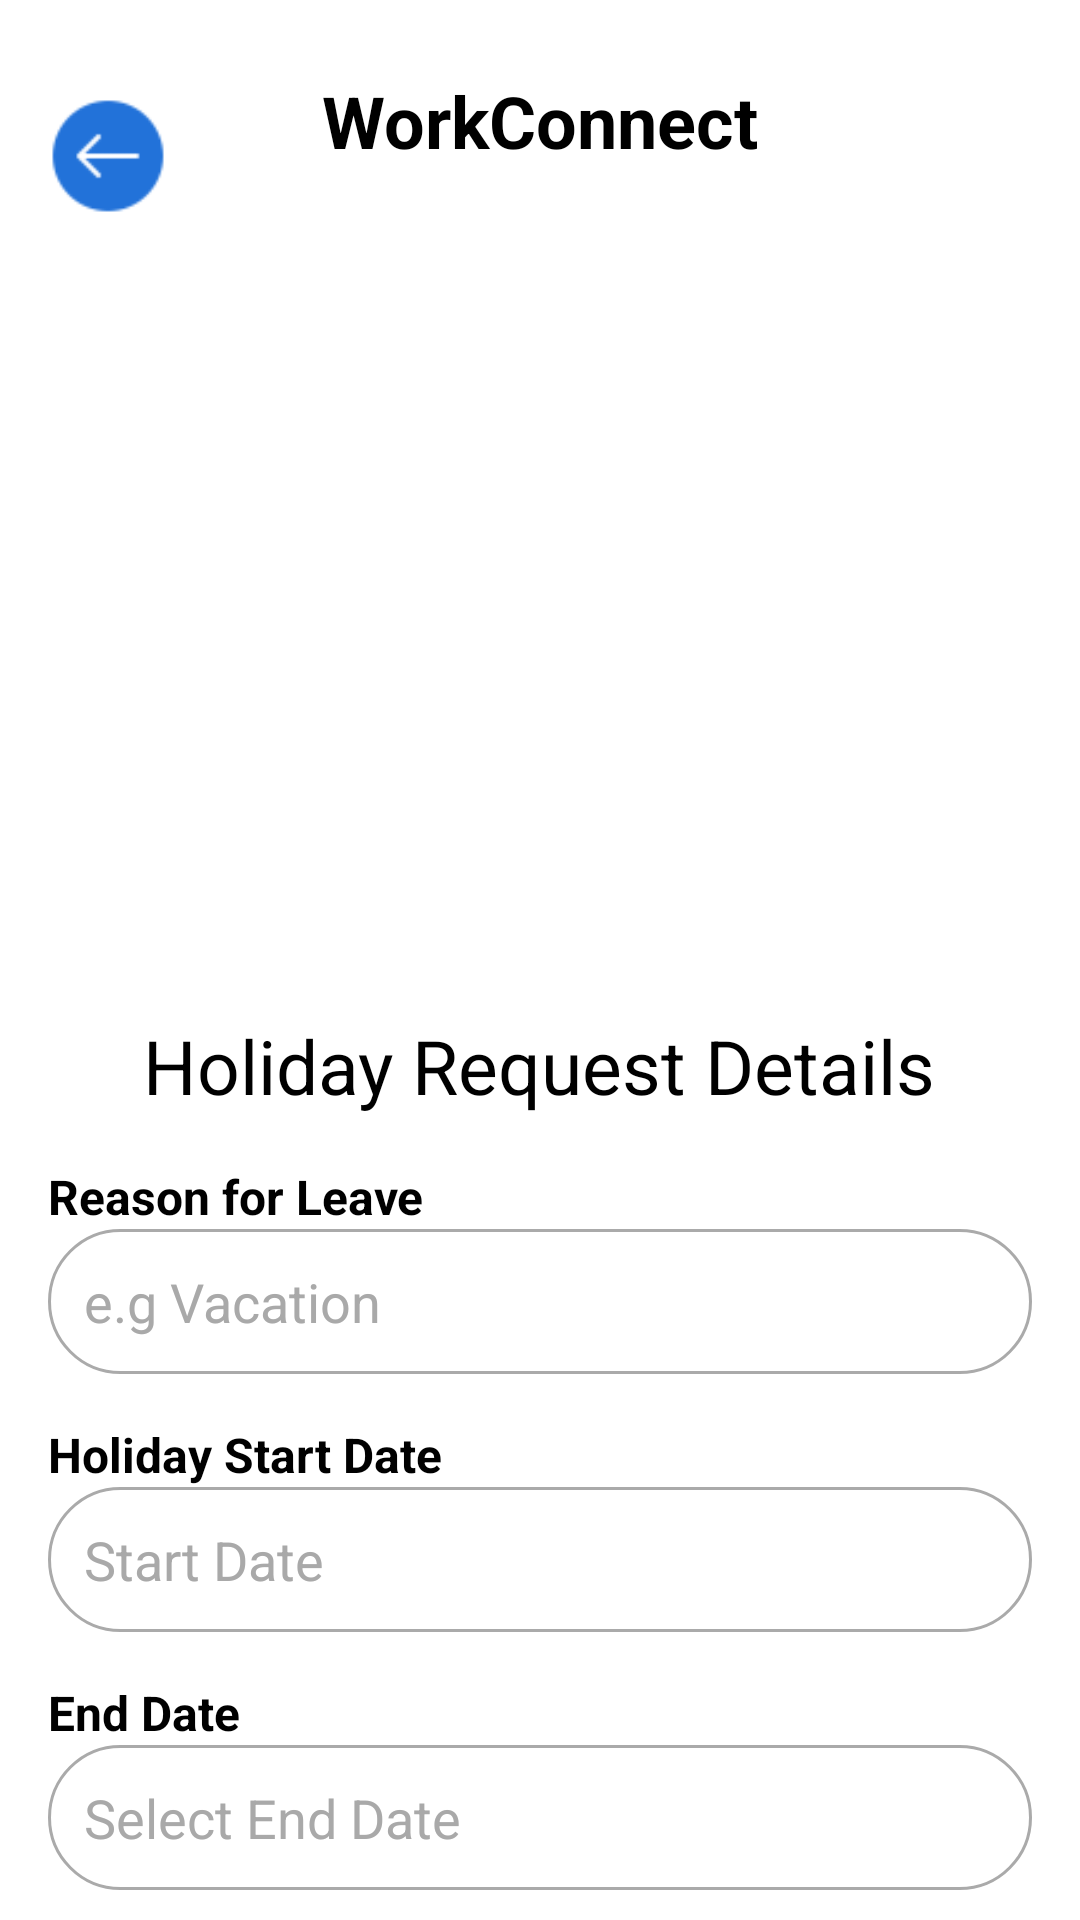

Icon bounding boxes for this 1080px x 1920px phone screenshot, format (left=x1, top=y1, right=x2, bottom=y2):
Back: (left=52, top=100, right=164, bottom=212)
